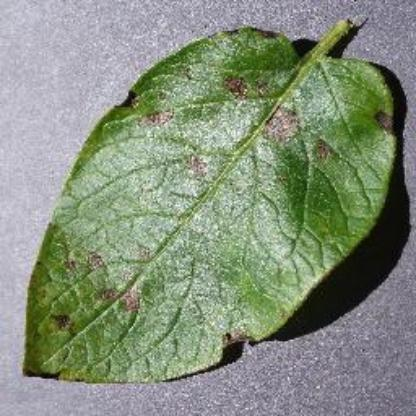Early-Blight: (21, 14, 402, 386)
